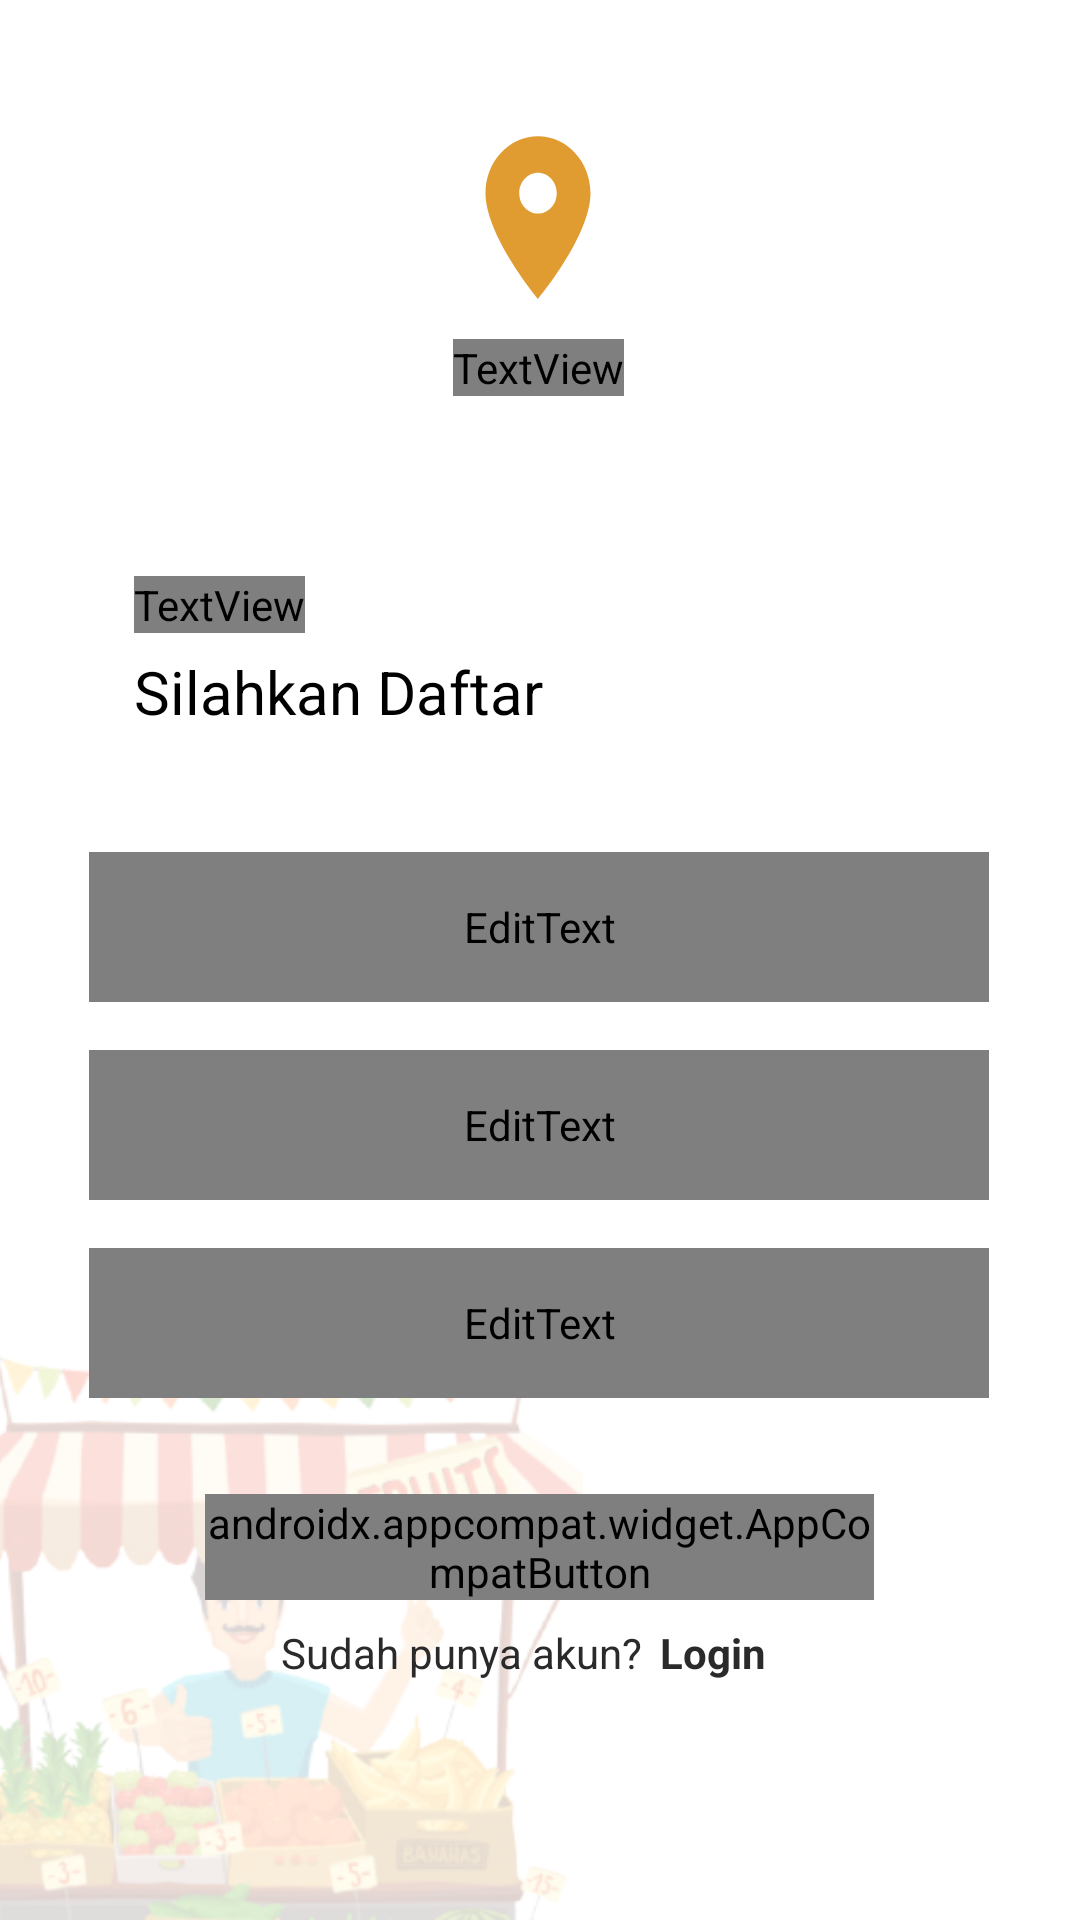

Point at icon controls on the screen. Image size 1080px×1920px, points as (x,y).
location: (538,217)
